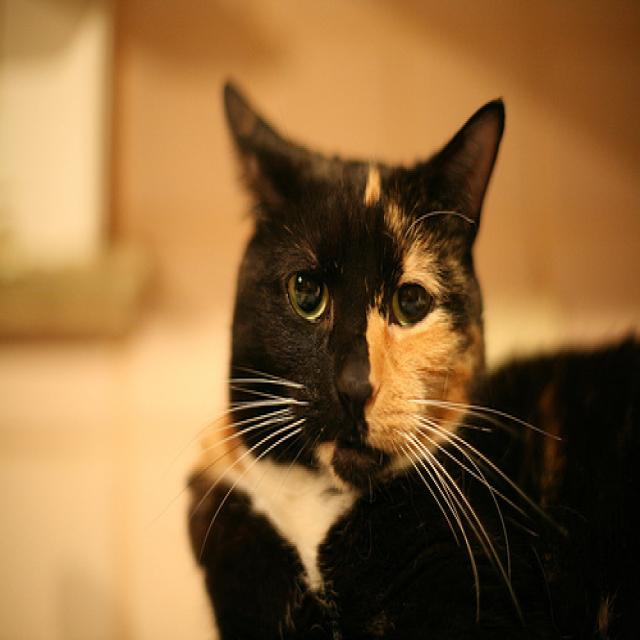cat: (182, 78, 640, 637)
